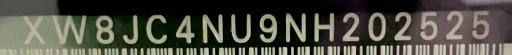letter: (50, 10, 92, 47), (16, 11, 50, 48), (280, 11, 314, 46), (226, 12, 258, 47), (196, 12, 228, 47), (360, 10, 392, 43), (440, 7, 470, 42), (144, 12, 174, 47), (92, 10, 120, 47), (414, 7, 442, 42), (390, 9, 416, 44), (338, 10, 364, 45), (173, 13, 199, 48), (469, 7, 493, 42), (312, 9, 336, 44), (119, 12, 143, 47), (256, 12, 280, 47)
